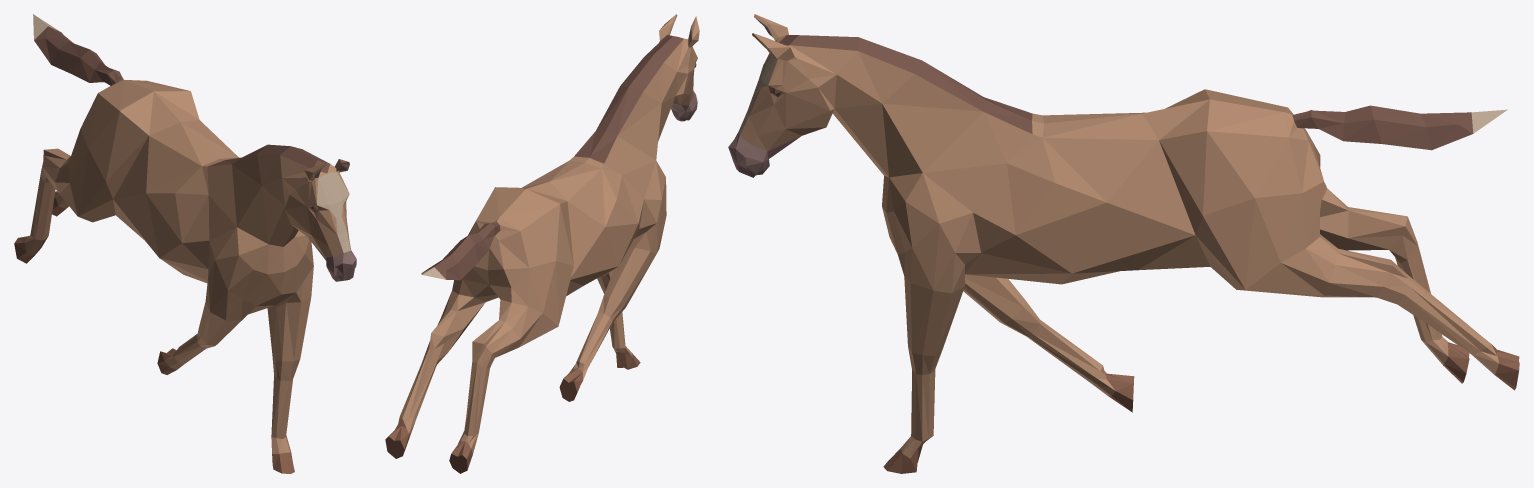
File: Horse.glb
3 views of the same model, side by side, from view 1: azimuth 30°, elevation 25°; view 2: azimuth 150°, elevation 25°; view 3: azimuth 270°, elevation 25° (orthographic). The views are drawn at different scales.
Visible parts, largest first — view 1: mesh_0; view 2: mesh_0; view 3: mesh_0.
Part boxes in pixels (x1,y1,x2,y2): mesh_0: (14, 14, 356, 473); mesh_0: (385, 14, 699, 473); mesh_0: (728, 14, 1519, 473).
Size of the model in its own units: 63.47 by 188 by 303.
